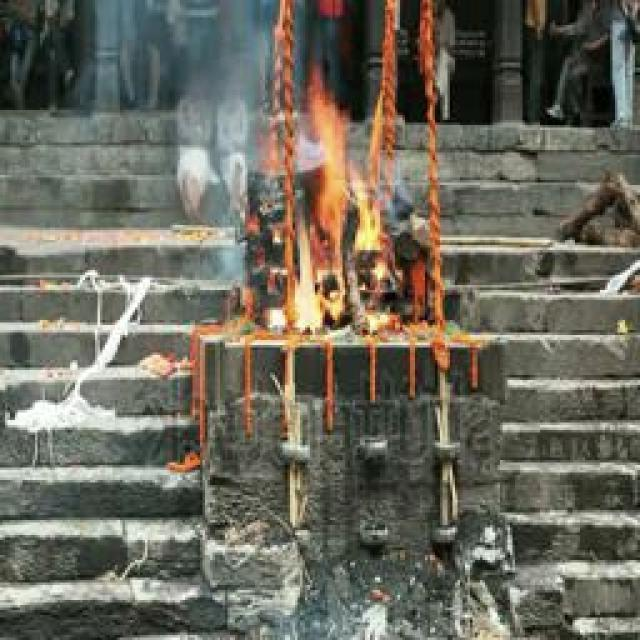Fire: (263, 93, 392, 331)
